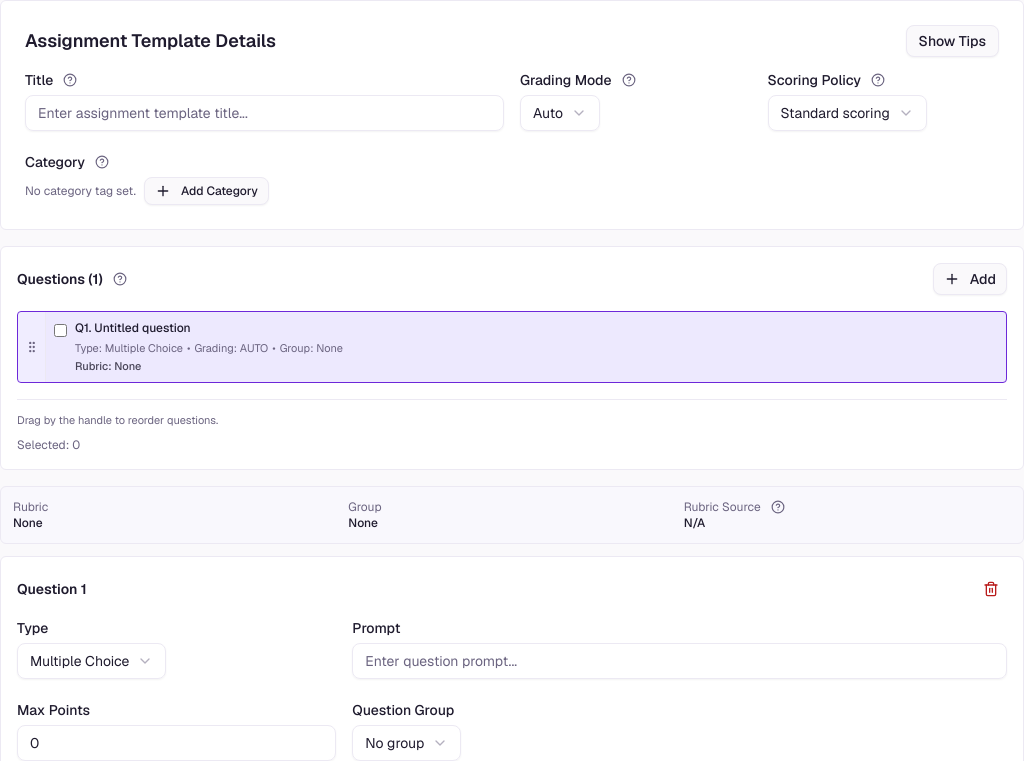
Test case: AssignmentTemplateBuilderForm › hides tips when Hide Tips is clicked after showing them
Expected: the heading "Assignment Template Details" is shown, left=25, top=27, right=276, bottom=55
Step 1. Click the button "Show Tips" → (952, 41), box left=906, top=25, right=999, bottom=57
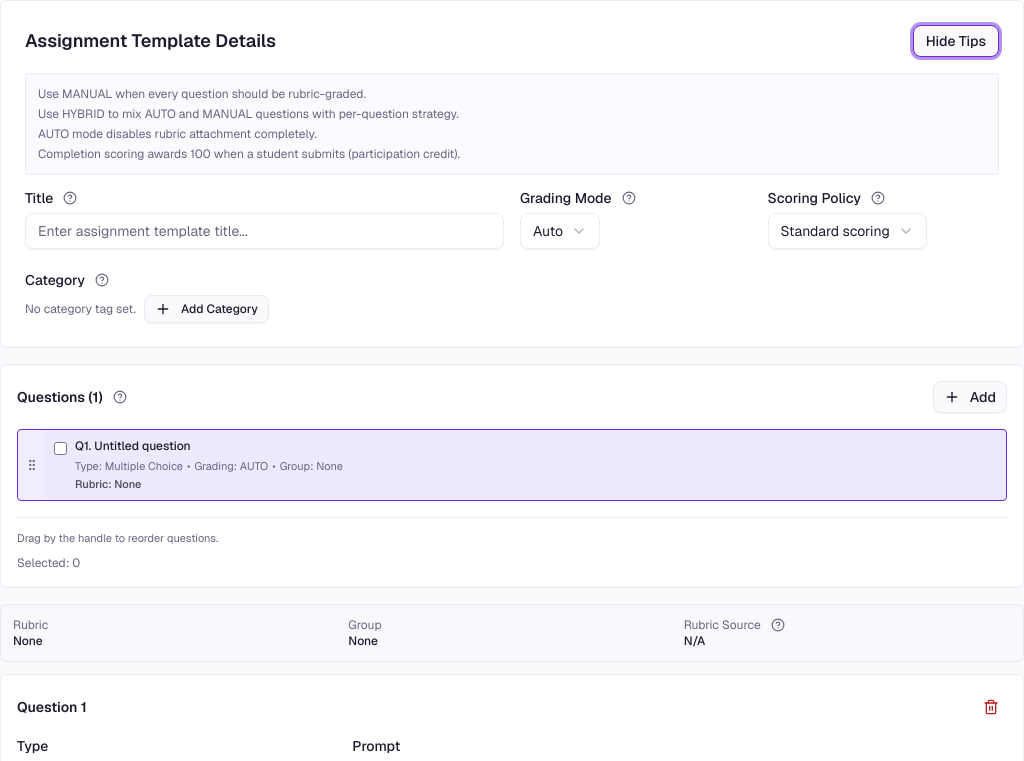
Expected: the text "Use MANUAL when every question should be rubric-graded." is shown, left=38, top=86, right=366, bottom=102
Step 2. Click the button "Hide Tips" → (956, 41), box left=913, top=25, right=999, bottom=57
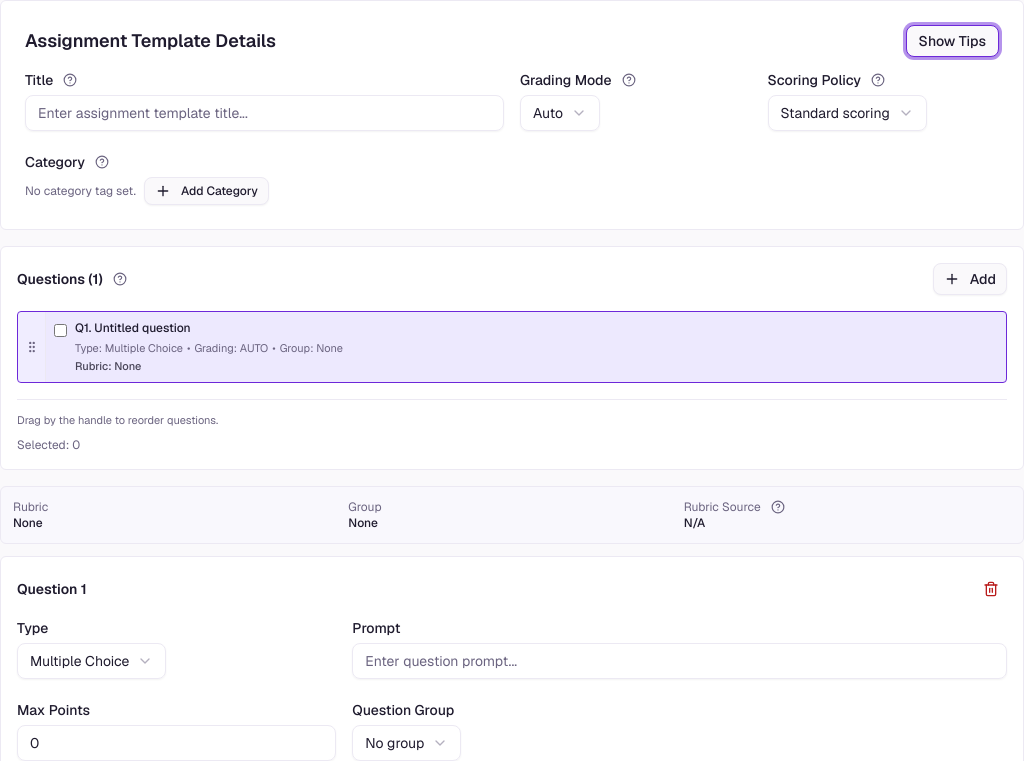
Expected: the text "Use MANUAL when every question" is gone
